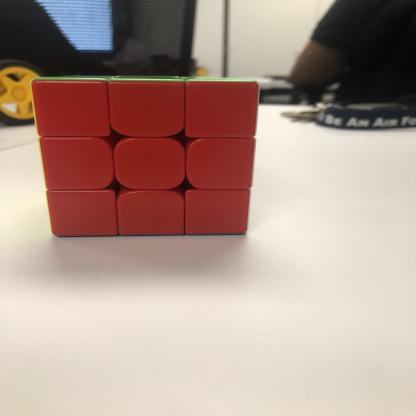SolvedCube: (14, 61, 284, 254)
